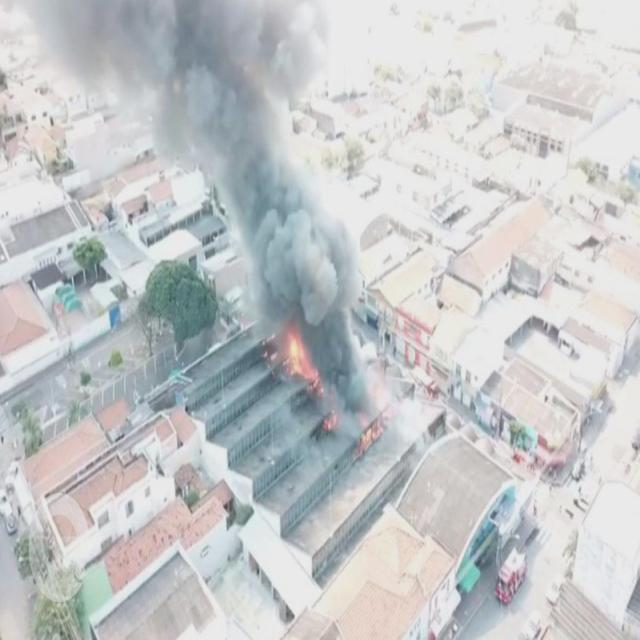Fire: (282, 329, 326, 396), (359, 418, 383, 451)
Smoke: (1, 1, 374, 438)
